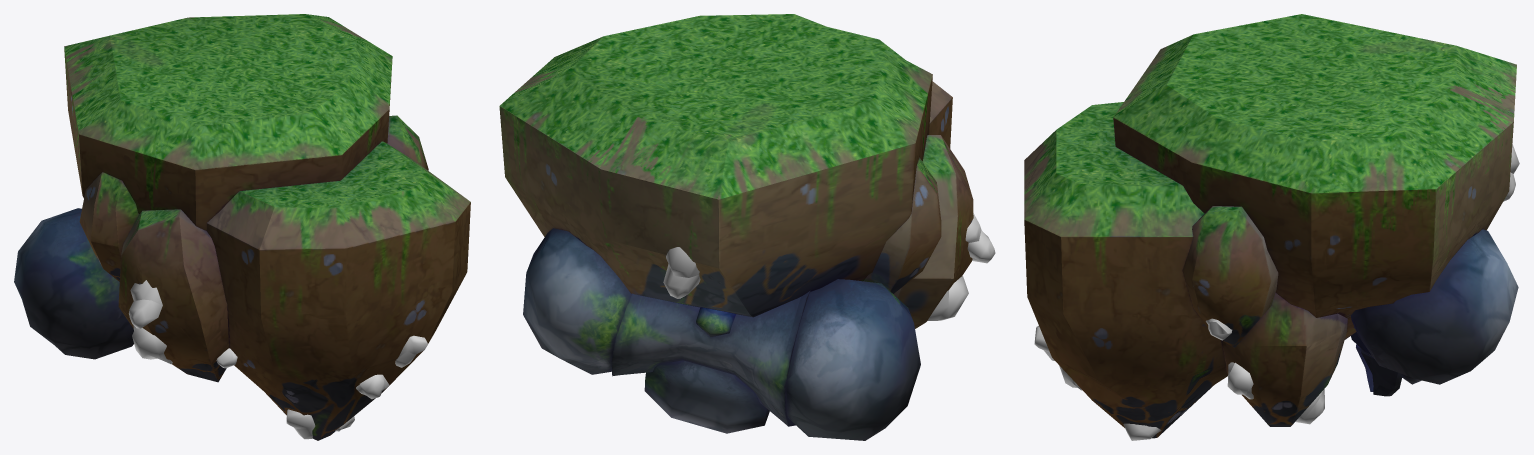
Rendered from Isla.fbx.
3 renders of one model, left to right at view 1: azimuth 30°, elevation 25°; view 2: azimuth 150°, elevation 25°; view 3: azimuth 270°, elevation 25°, orthographic. The views are drawn at different scales.
Visible parts, largest first — view 1: roca2; view 2: roca2; view 3: roca2.
Part boxes in pixels (x1,y1,x2,y2): roca2: (14,14,470,440); roca2: (499,14,995,440); roca2: (1024,14,1519,440).
Size of the model in its own units: 3423 by 3038 by 3878.
